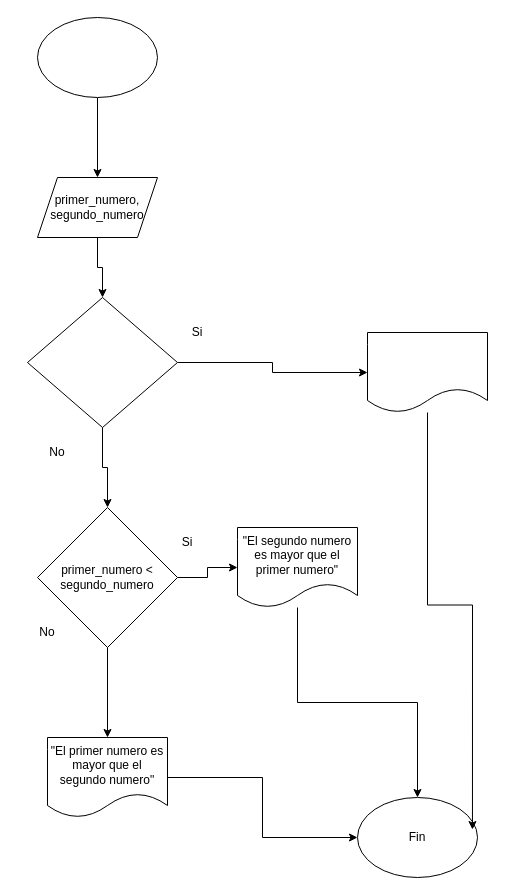
Image size: 505x895. Some labels were removed from this diagram. Here are the shapes that lost their labels. From the top down, the centre of each, then its label:
(x=97, y=57): Inicio
(x=102, y=362): primer_numero == segundo_numero
(x=427, y=372): "Los numeros son iguales"
